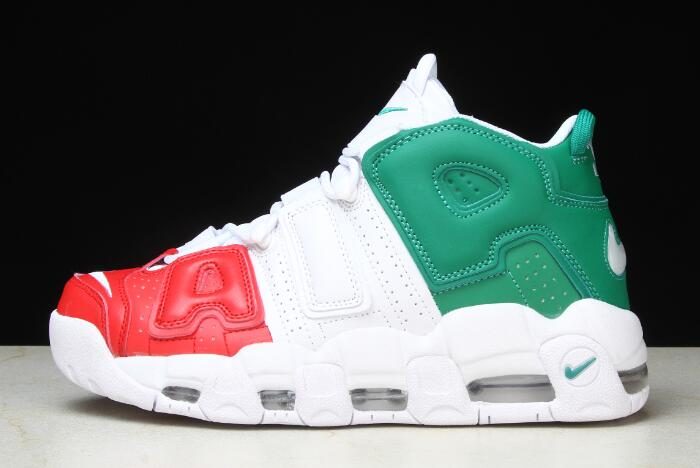Nike Air Uptempo '96 Italy: (45, 25, 664, 434)
